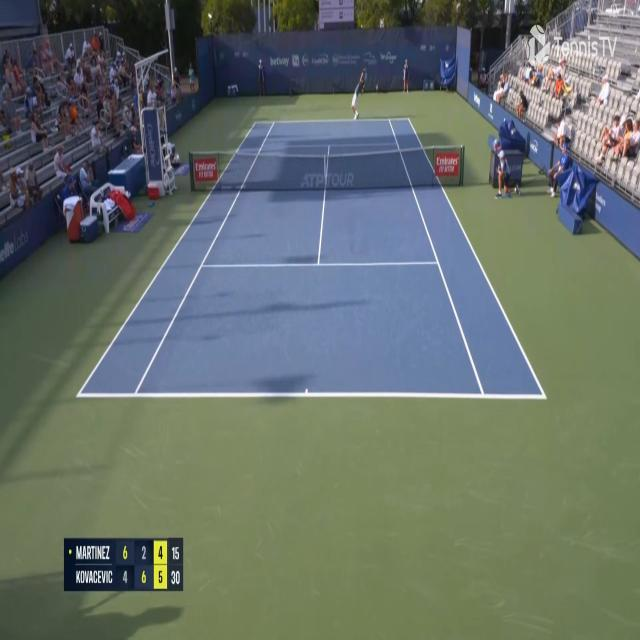tennis-player: (350, 66, 368, 122)
